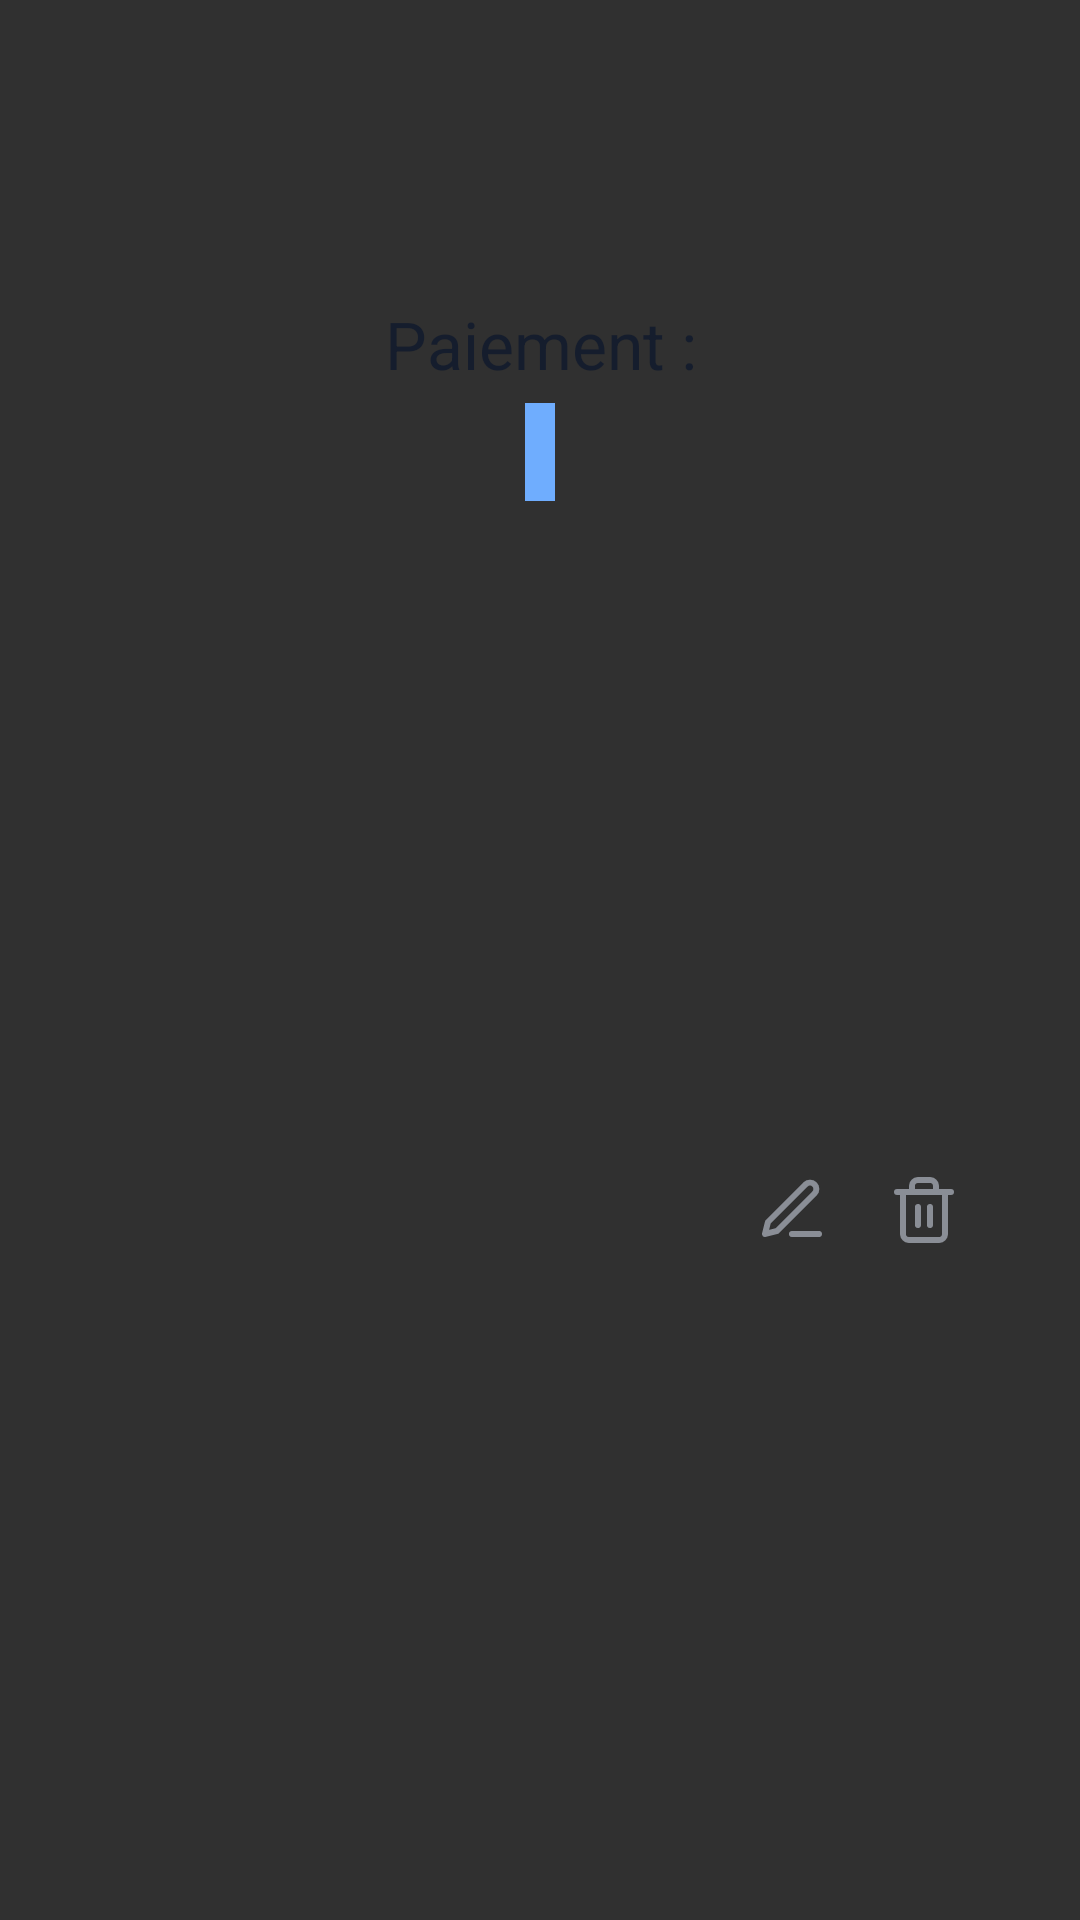

Icons on this 1080x1920 Android screen, each with the point to tap as (x,y):
Une icone de poubelle: (924,1210)
Une icone de stylo: (792,1208)
